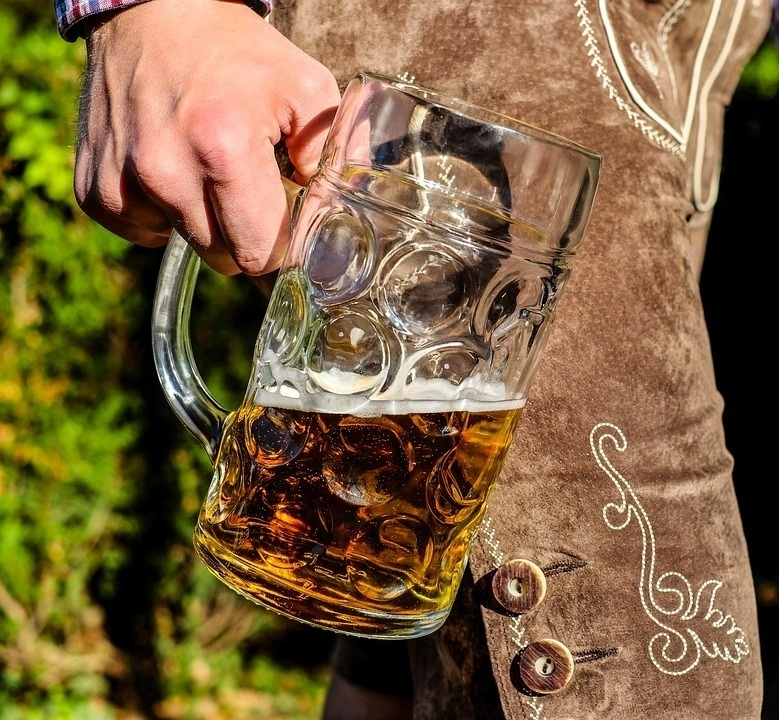whiskey: (182, 72, 604, 635)
